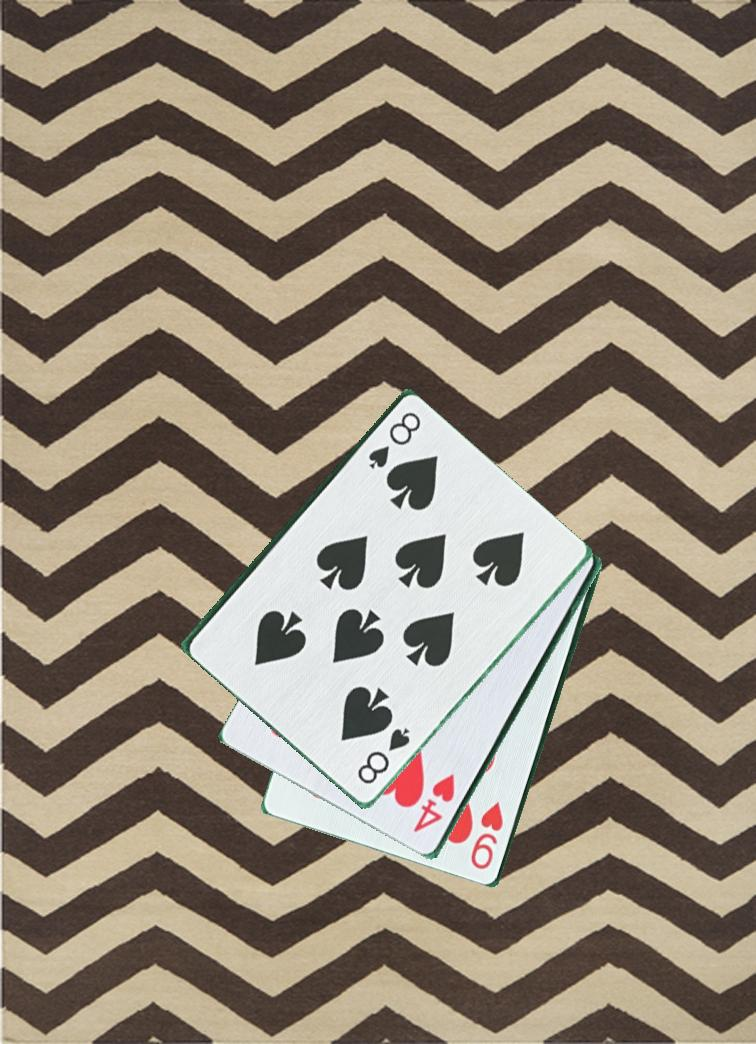4h: (409, 770, 458, 836)
8s: (343, 724, 413, 788), (363, 409, 424, 475)
9h: (467, 799, 507, 873)
